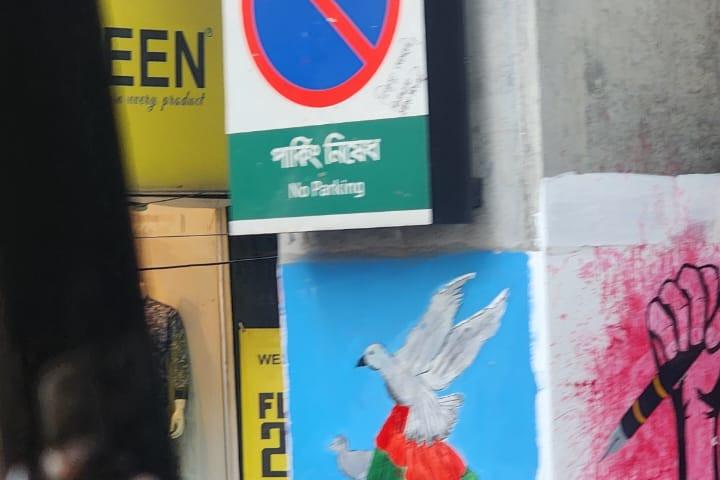No Parking: (224, 0, 432, 233)
